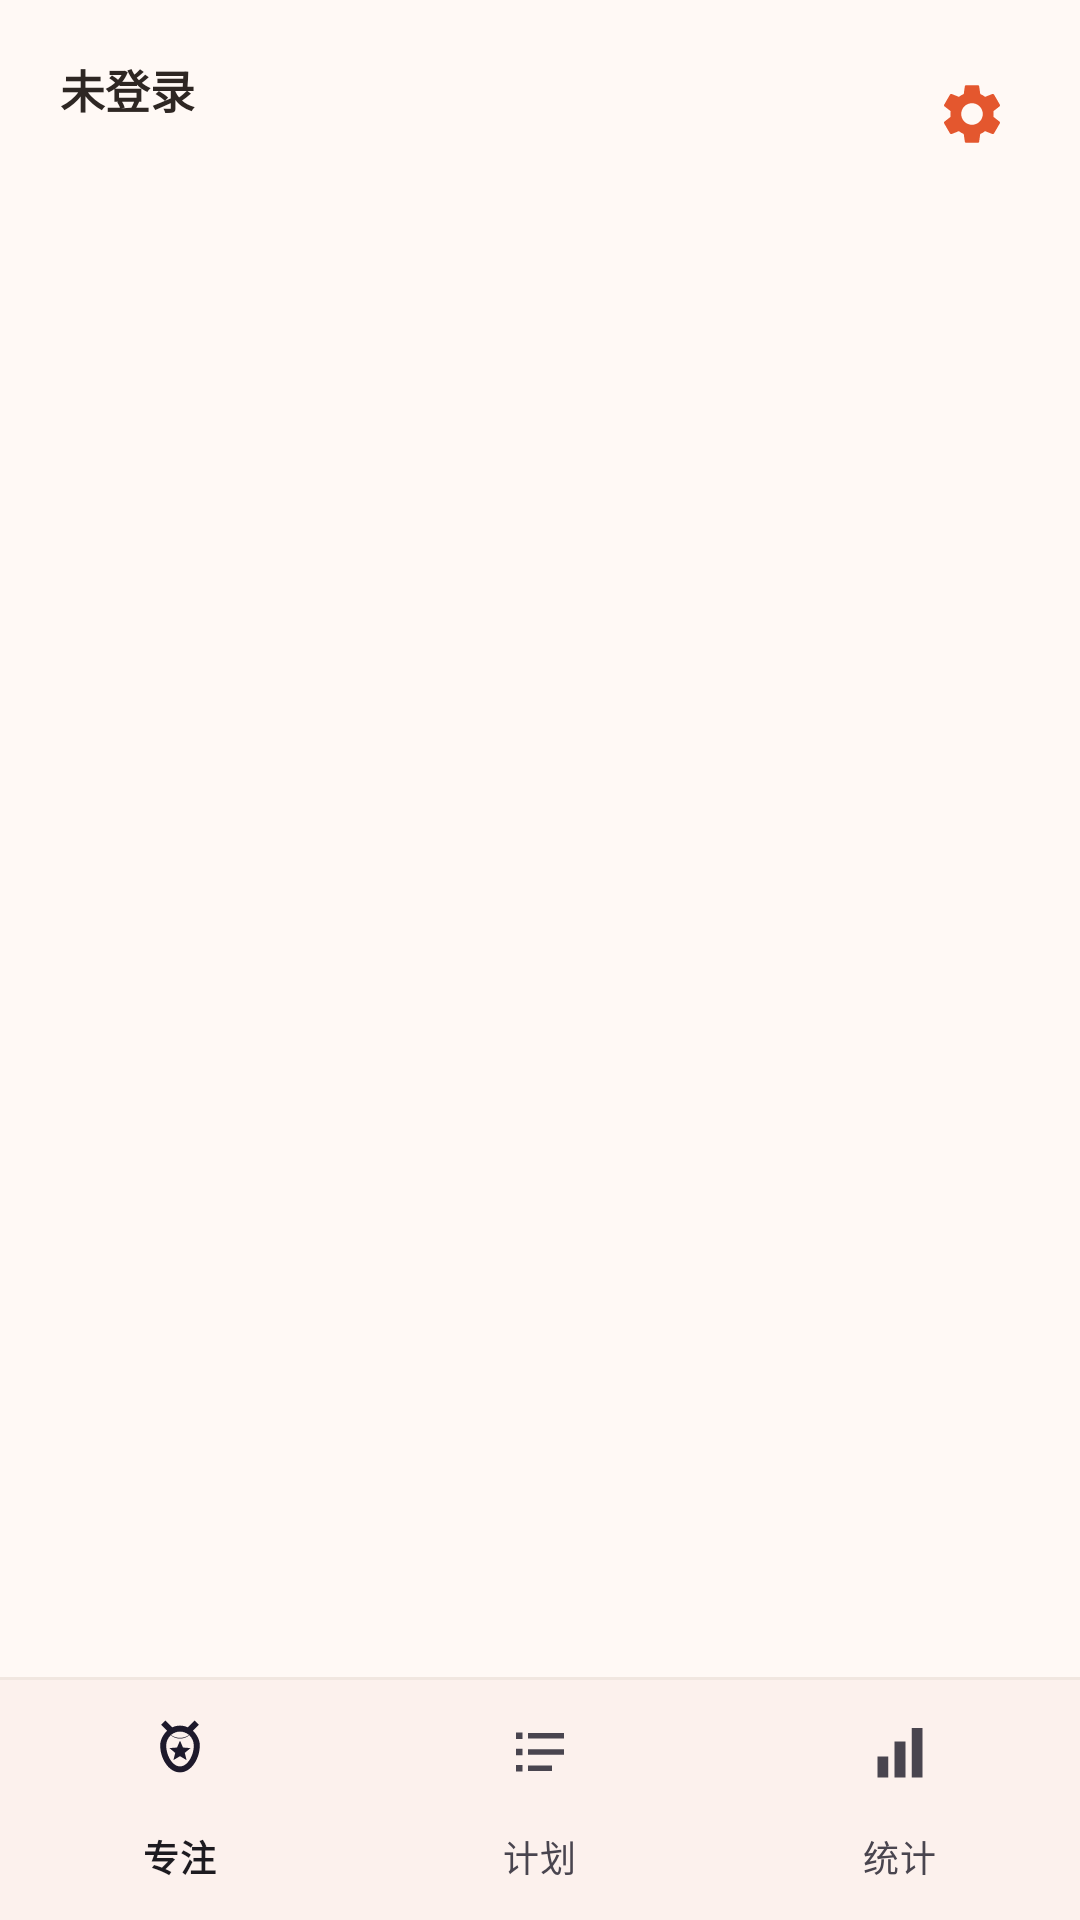

Screen size 1080*1920. Icon name, then its center in pixels as (x=x, y=y):
账号与设置: (x=972, y=114)
